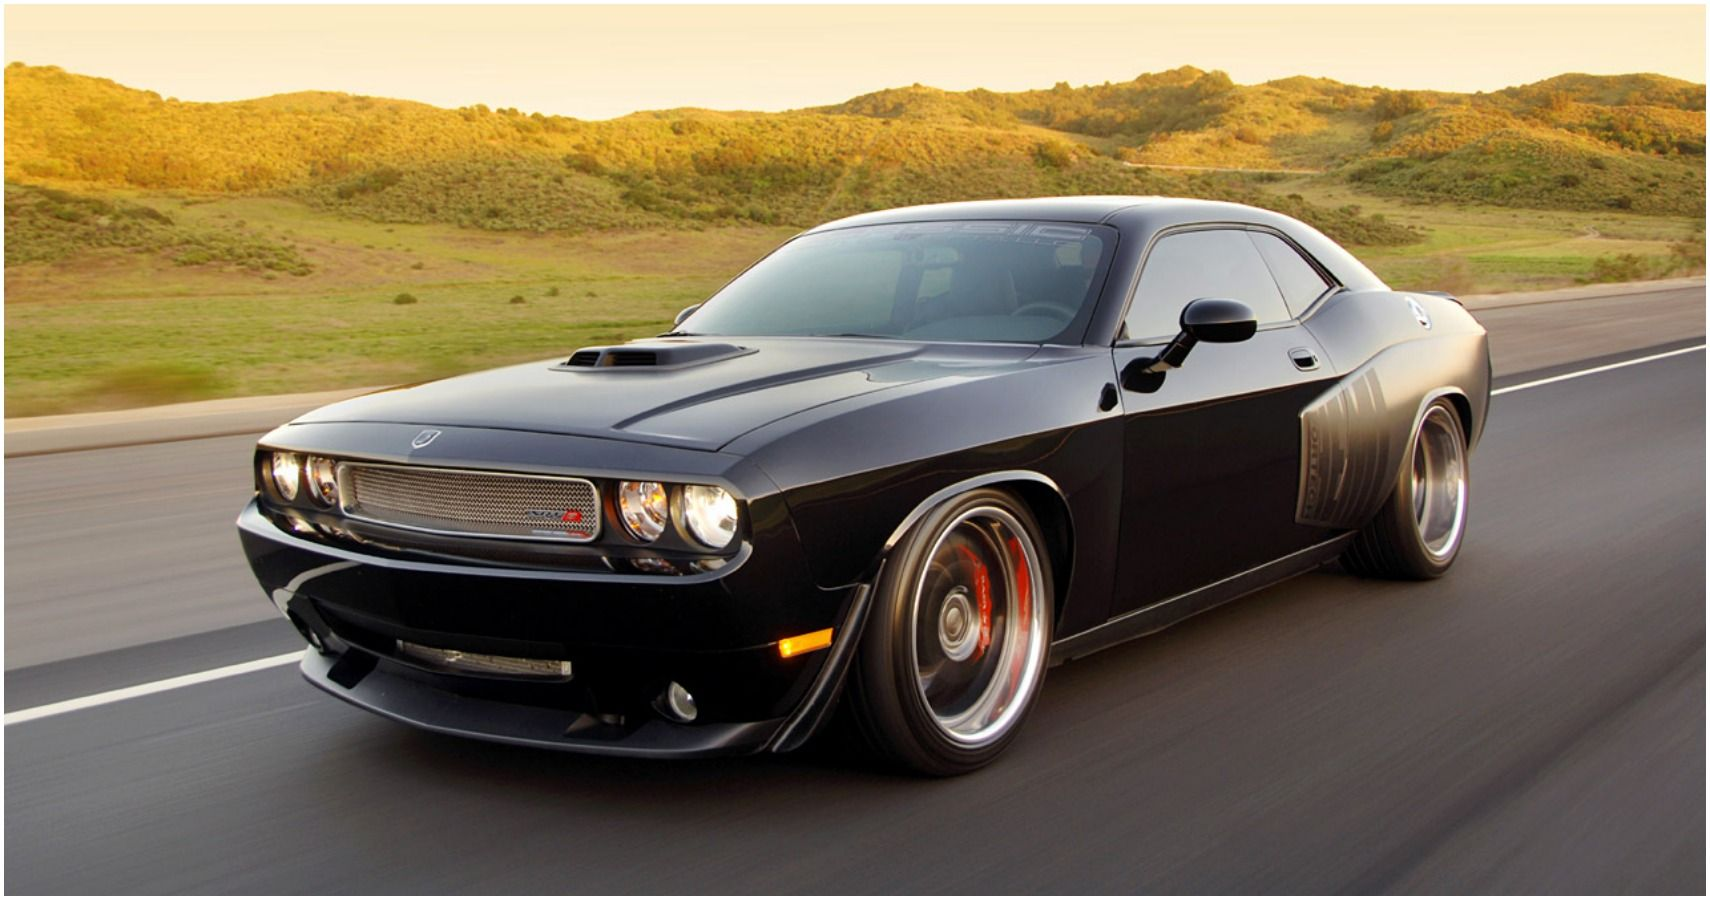headlight: (598, 471, 750, 556), (247, 444, 371, 522)
wheel: (839, 481, 1053, 772), (1346, 386, 1474, 583)
